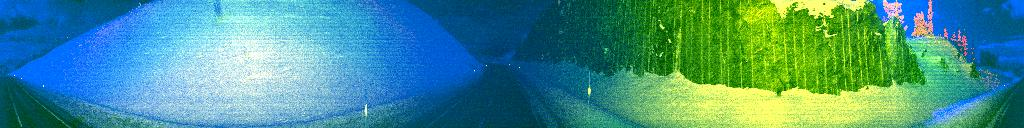pole: (586, 67, 594, 118), (362, 80, 370, 128)
